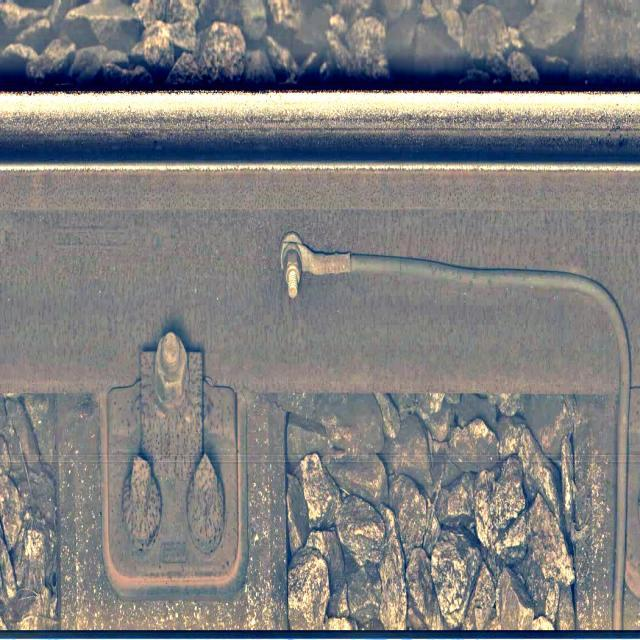Good Fasteners: (101, 332, 240, 588)
